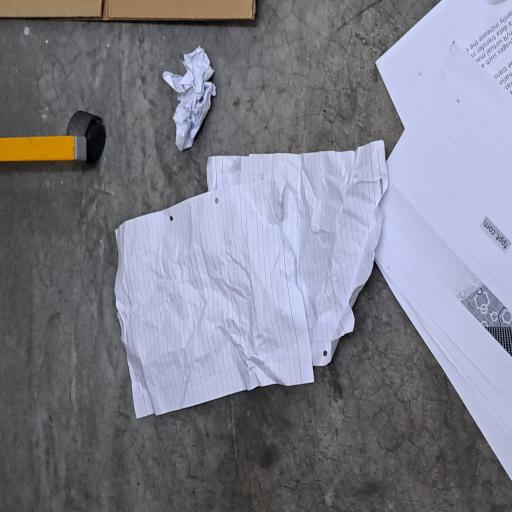paper: (68, 155, 278, 512), (270, 217, 348, 288)
